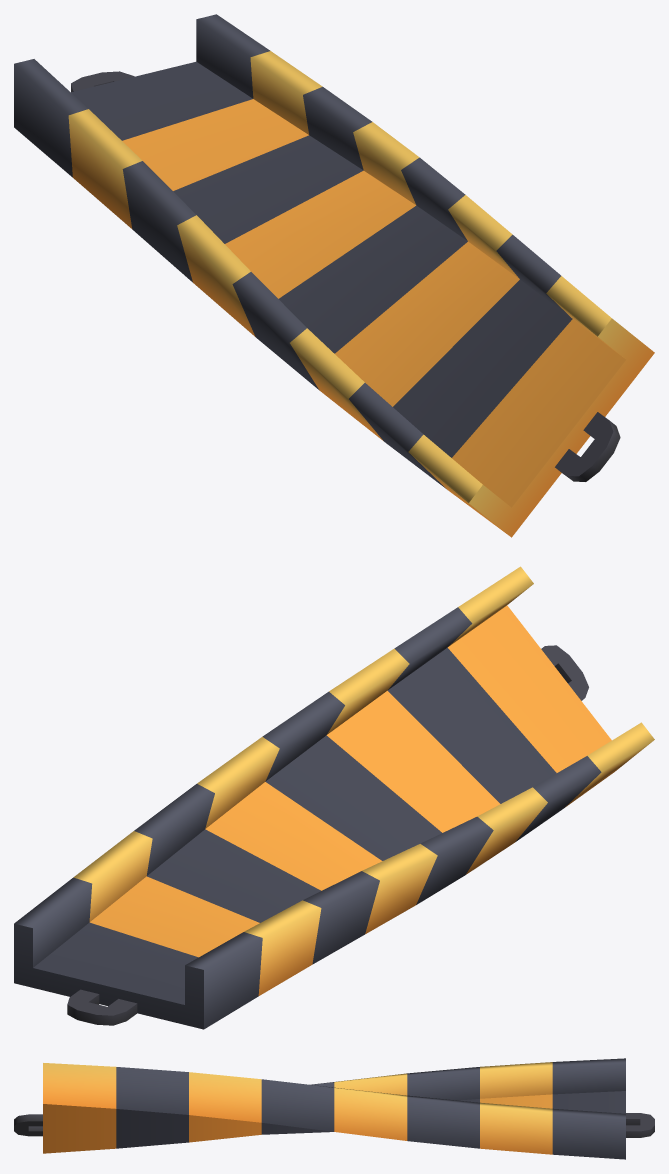
The model's file is track-striped-narrow-straight-skew-right.fbx.
3 renders of one model, top to bottom at view 1: azimuth 30°, elevation 25°; view 2: azimuth 150°, elevation 25°; view 3: azimuth 270°, elevation 25°, orthographic. The views are drawn at different scales.
Visible parts, largest first — view 1: track-striped-narrow-straight-skew-right; view 2: track-striped-narrow-straight-skew-right; view 3: track-striped-narrow-straight-skew-right.
Part boxes in pixels (x1=…): track-striped-narrow-straight-skew-right: x1=14, y1=14, x2=654, y2=537; track-striped-narrow-straight-skew-right: x1=14, y1=566, x2=654, y2=1029; track-striped-narrow-straight-skew-right: x1=14, y1=1058, x2=654, y2=1159.
Size of the model in its own units: 108 by 91.92 by 440.
